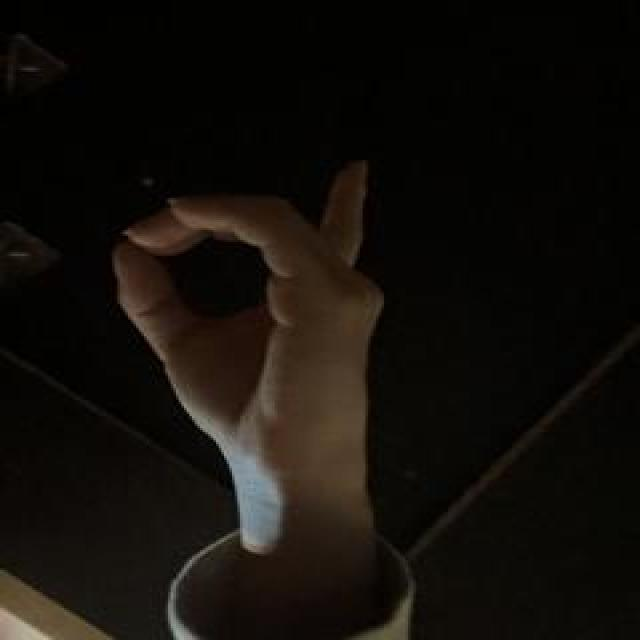D: (104, 154, 395, 470)
